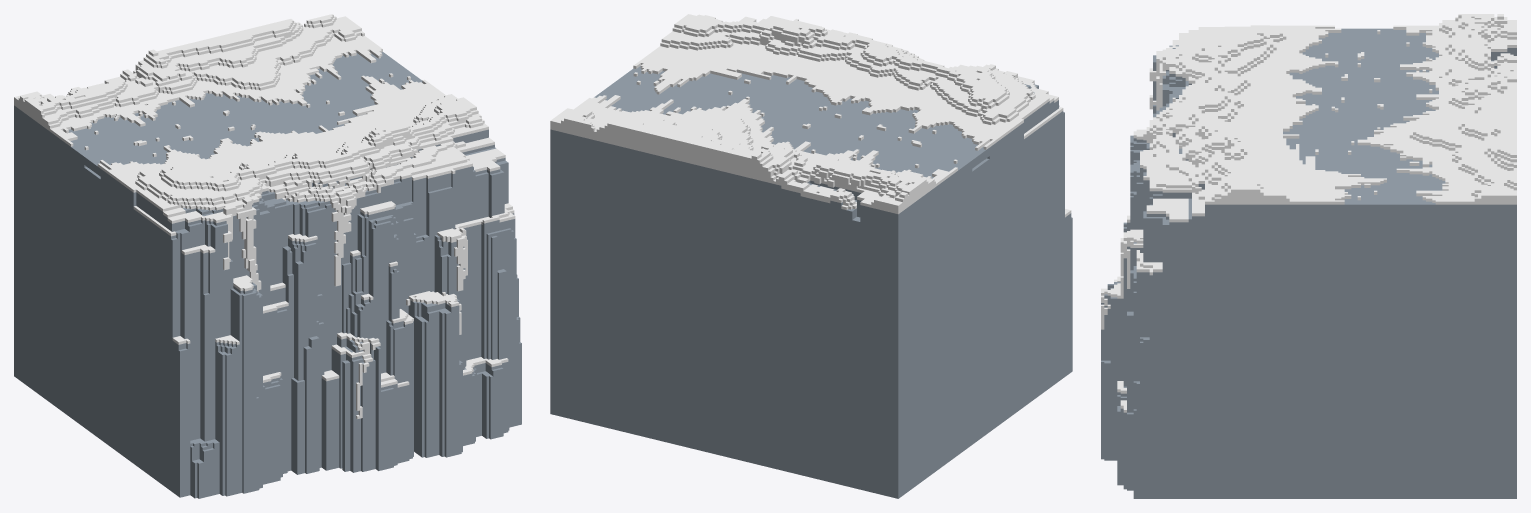
File: factory4.1-26.obj
The picture shows the model from 3 angles, left to right: view 1: azimuth 30°, elevation 25°; view 2: azimuth 150°, elevation 25°; view 3: azimuth 270°, elevation 25°; orthographic projection. The views are drawn at different scales.
Bounding box in the file's own units: 25.6 × 21.6 × 25.6.
Materials: 1 (1 with a texture image).
